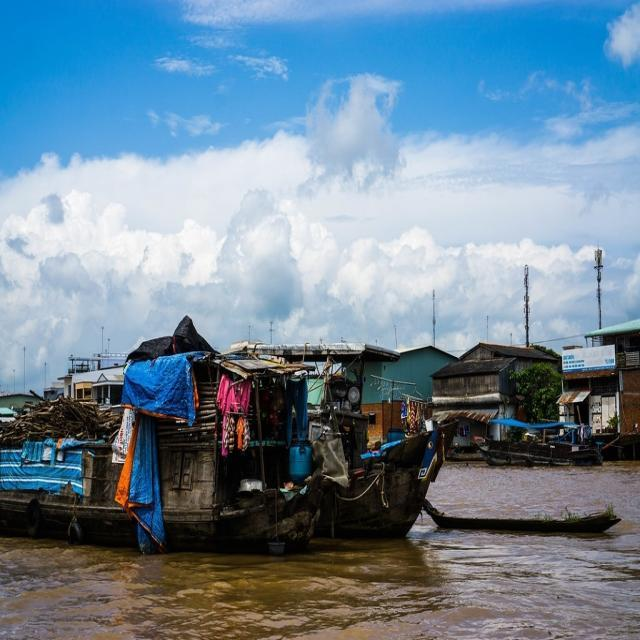boat: (0, 372, 365, 558), (422, 488, 636, 543)
